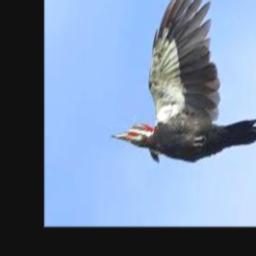Woodpecker: (110, 0, 256, 161)
